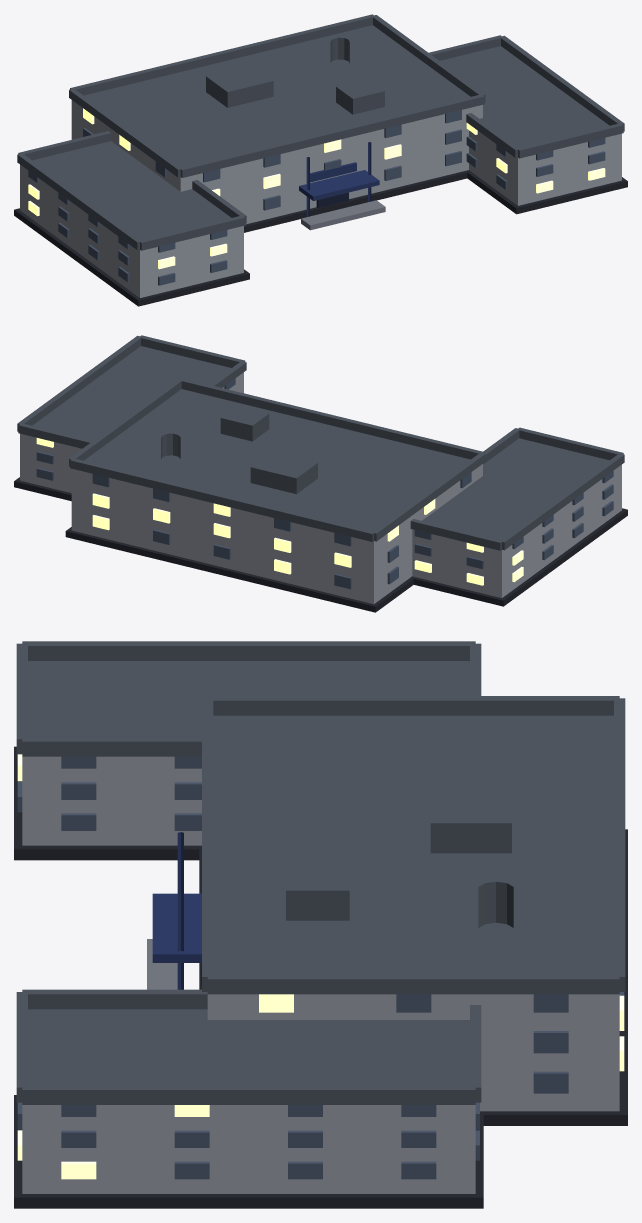
The model's file is academic-high.glb.
3 renders of one model, top to bottom at view 1: azimuth 30°, elevation 25°; view 2: azimuth 150°, elevation 25°; view 3: azimuth 270°, elevation 25°, orthographic. The views are drawn at different scales.
Size of the model in its own units: 104 by 18.4 by 59.6.
